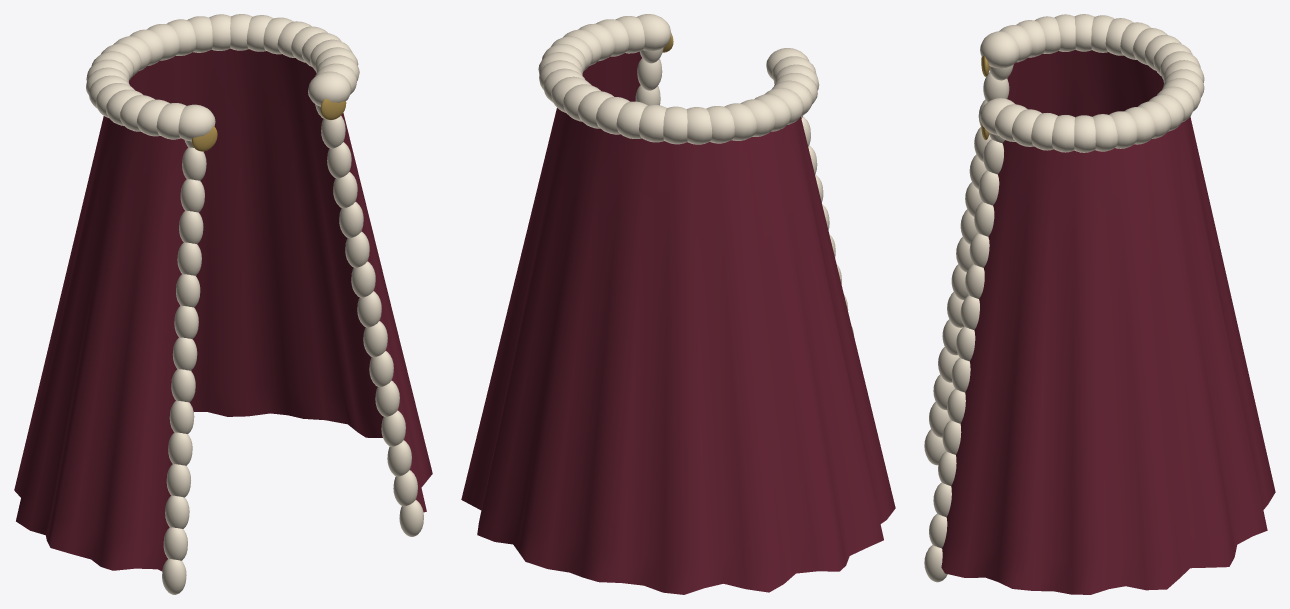
The model's file is cape.glb.
The picture shows the model from 3 angles, left to right: view 1: azimuth 30°, elevation 25°; view 2: azimuth 150°, elevation 25°; view 3: azimuth 270°, elevation 25°; orthographic projection. The views are drawn at different scales.
Visible parts, largest first — view 1: Royal velvet cape, Ivory fur, Antique brass; view 2: Royal velvet cape, Ivory fur; view 3: Royal velvet cape, Ivory fur.
Boxes of the visible parts, bbox=[...] form: Royal velvet cape: bbox=[14, 48, 432, 571]; Ivory fur: bbox=[86, 14, 423, 594]; Antique brass: bbox=[192, 99, 346, 151]; Royal velvet cape: bbox=[461, 51, 895, 594]; Ivory fur: bbox=[538, 14, 853, 334]; Royal velvet cape: bbox=[941, 49, 1275, 594]; Ivory fur: bbox=[924, 14, 1204, 582].
Size of the model in its own units: 1.16 by 1.34 by 0.9377.
